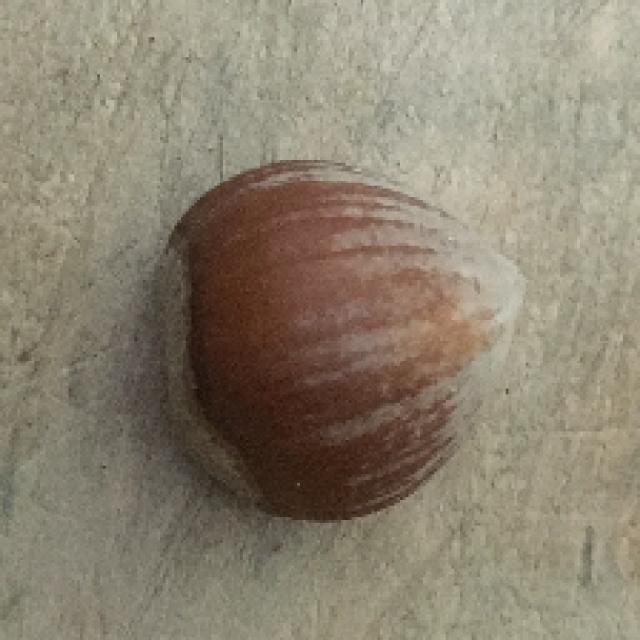QualityHazelnut: (152, 156, 533, 520)
